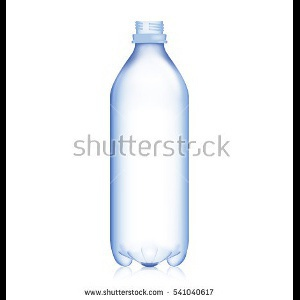emptybottle: (110, 22, 189, 267)
